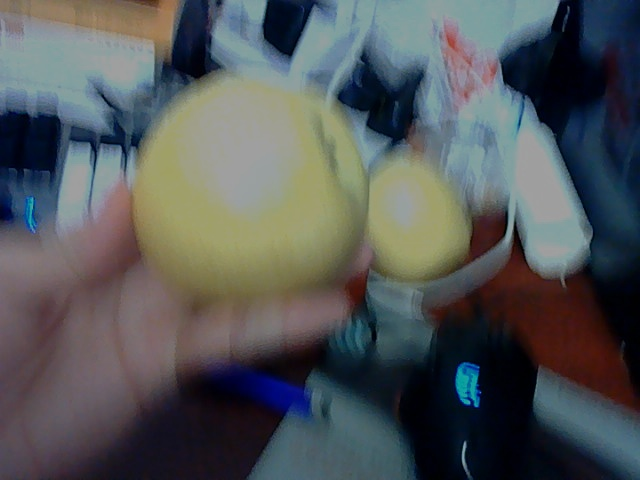pear: (129, 81, 361, 308), (360, 160, 477, 284)
